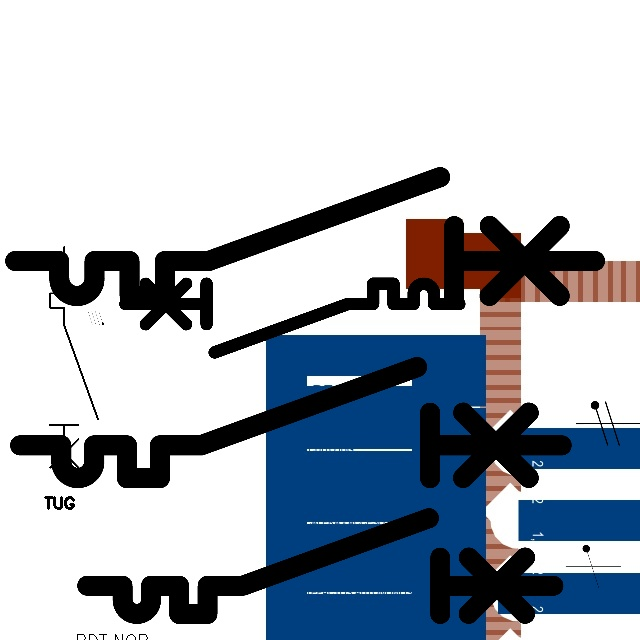interruptor_termomagnetico: (0, 162, 610, 311), (6, 353, 575, 492), (75, 506, 566, 626), (116, 275, 467, 361), (44, 241, 104, 488)
